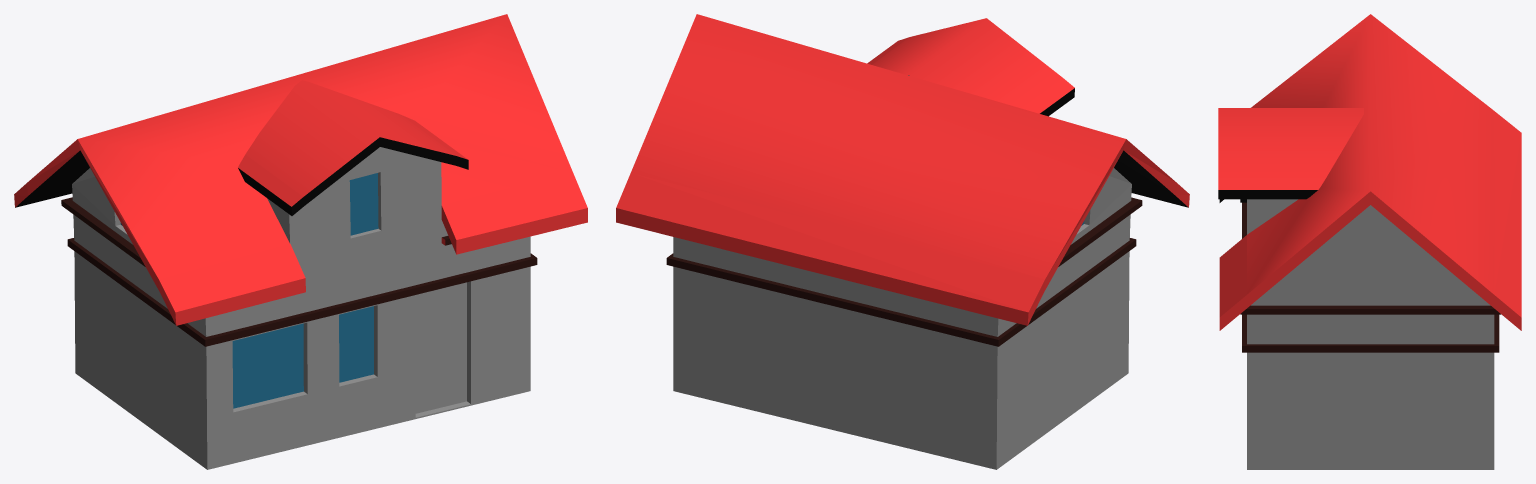
Rendered from HouseLod1.FBX.
The picture shows the model from 3 angles, left to right: view 1: azimuth 30°, elevation 25°; view 2: azimuth 150°, elevation 25°; view 3: azimuth 270°, elevation 25°; orthographic projection. The views are drawn at different scales.
Parts seen in each view (by area): view 1: Box074; view 2: Box074; view 3: Box074.
Boxes of the visible parts, <box> form: Box074: <box>14,14,587,469</box>; Box074: <box>616,14,1189,469</box>; Box074: <box>1218,14,1521,469</box>.
Bounding box in the file's own units: 707 × 501 × 462.
